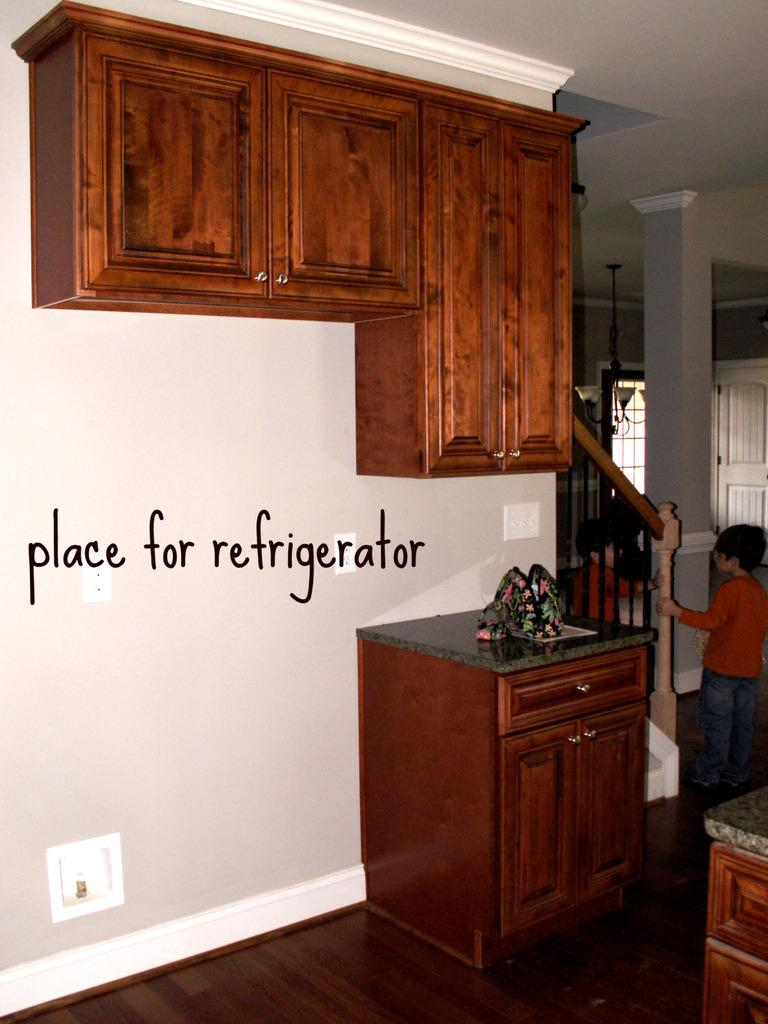cabinet_door: (90, 46, 262, 290), (266, 80, 410, 302), (429, 134, 509, 460), (500, 144, 570, 460), (510, 725, 582, 916), (585, 724, 641, 886), (514, 652, 642, 712)
handle: (273, 253, 291, 296), (511, 438, 530, 476), (574, 677, 594, 707), (490, 434, 505, 472), (566, 726, 582, 756), (256, 262, 270, 294), (584, 726, 600, 750)
